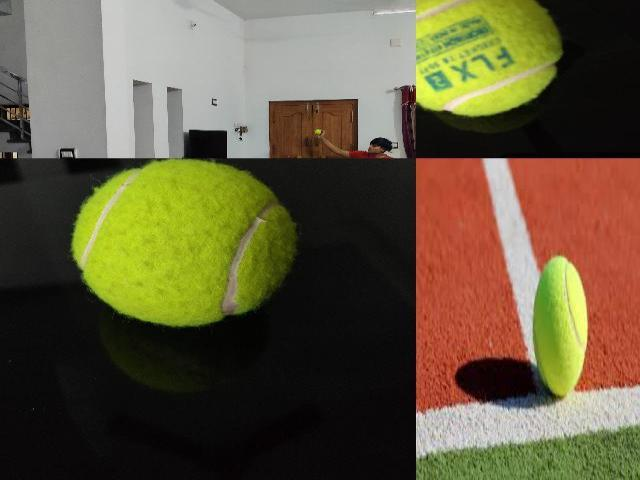tennis-ball: (70, 158, 299, 328), (416, 0, 563, 116), (532, 253, 588, 398), (314, 130, 322, 134)
